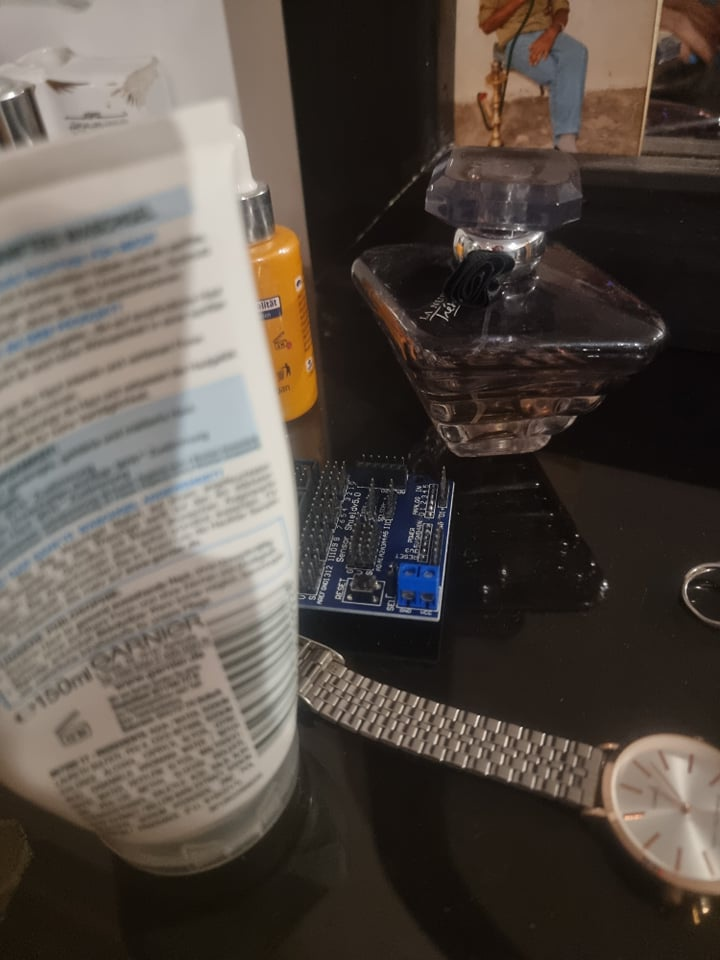5V EXPANSION: (290, 450, 458, 627)
